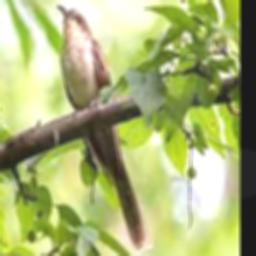Cuckoo: (56, 4, 154, 254)
